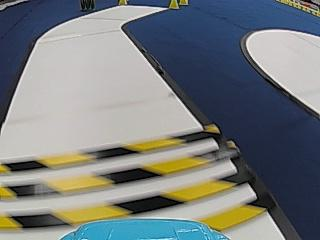bump: (0, 128, 260, 232)
